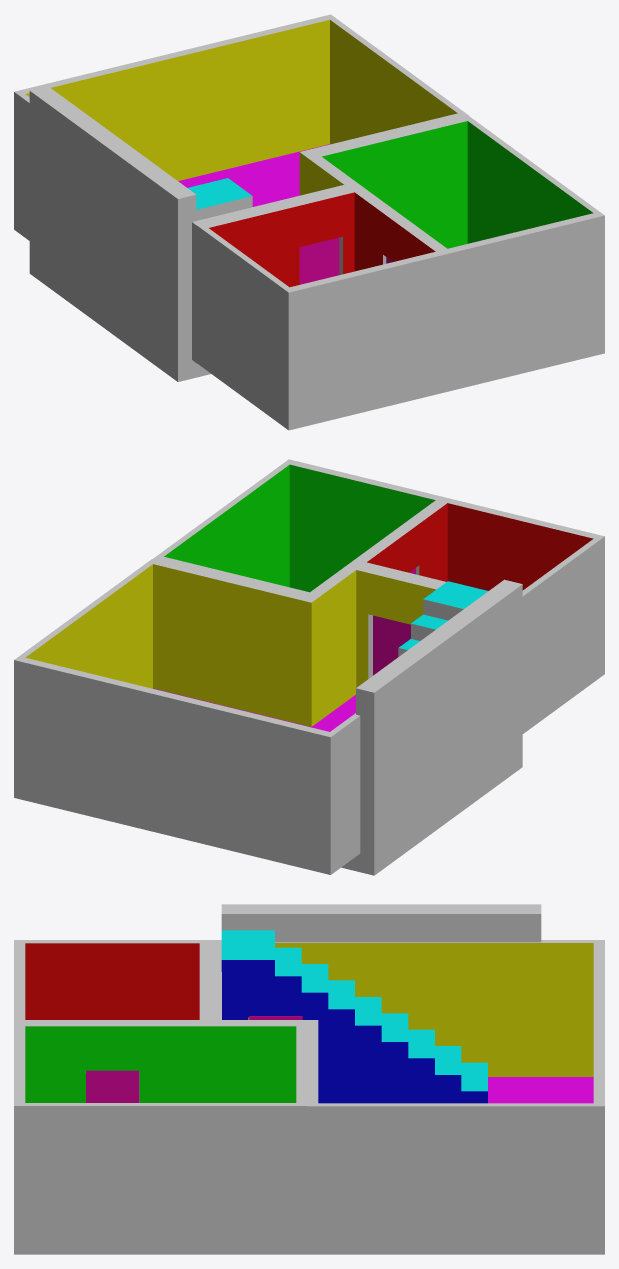
Rendered from Etage1.fbx.
3 renders of one model, top to bottom at view 1: azimuth 30°, elevation 25°; view 2: azimuth 150°, elevation 25°; view 3: azimuth 270°, elevation 25°, orthographic. The views are drawn at different scales.
Visible parts, largest first — view 1: Treppe, WzWand03, KuecheWand03, EZWand04, KuecheWand01, EZWand02, WzWand04, EZWand01, KuecheWand02, KuecheWand, KuecheBoden, Flur01Boden (+7 smaller); view 2: WzWand03, Treppe, WzWand05, EZWand04, KuecheWand01, KuecheWand03, WzWand04, EZWand01, WzWand06, Flur01Boden, WZWand01, WzWand02 (+5 smaller); view 3: WzWand04, EZWand01, Treppe, WzWand02, EZWand03, KuecheWand01, Flur01Boden, EzBoden, WzWand03, Tuer01, WzWand05, EZWand02 (+5 smaller).
Boxes of the visible parts, x1,y1,x2,y2 form: Treppe: [29, 86, 252, 381]; WzWand03: [14, 14, 330, 180]; KuecheWand03: [288, 251, 446, 416]; EZWand04: [446, 213, 604, 378]; KuecheWand01: [197, 225, 289, 416]; EZWand02: [311, 115, 468, 248]; WzWand04: [330, 15, 468, 144]; EZWand01: [467, 116, 604, 243]; KuecheWand02: [198, 187, 355, 287]; KuecheWand: [354, 187, 445, 271]; KuecheBoden: [197, 350, 446, 430]; Flur01Boden: [14, 144, 329, 363]; WzWand03: [14, 657, 330, 861]; Treppe: [341, 579, 522, 875]; WzWand05: [152, 559, 311, 726]; EZWand04: [289, 459, 446, 592]; KuecheWand01: [522, 536, 604, 720]; KuecheWand03: [447, 498, 604, 590]; WzWand04: [14, 559, 152, 688]; EZWand01: [153, 459, 289, 587]; WzWand06: [310, 565, 356, 726]; Flur01Boden: [14, 688, 360, 874]; WZWand01: [355, 565, 441, 687]; WzWand02: [330, 713, 360, 861]; WzWand04: [307, 1103, 604, 1240]; EZWand01: [14, 1103, 307, 1239]; Treppe: [221, 904, 541, 1103]; WzWand02: [211, 940, 603, 1076]; EZWand03: [15, 1023, 306, 1102]; KuecheWand01: [14, 940, 210, 1019]; Flur01Boden: [307, 1077, 604, 1254]; EzBoden: [14, 1240, 307, 1254]; WzWand03: [593, 940, 604, 1106]; Tuer01: [86, 1070, 139, 1102]; WzWand05: [307, 1020, 318, 1106]; EZWand02: [296, 1023, 307, 1105].
Bounding box in the file's own units: 8355 × 4415 × 12006.
